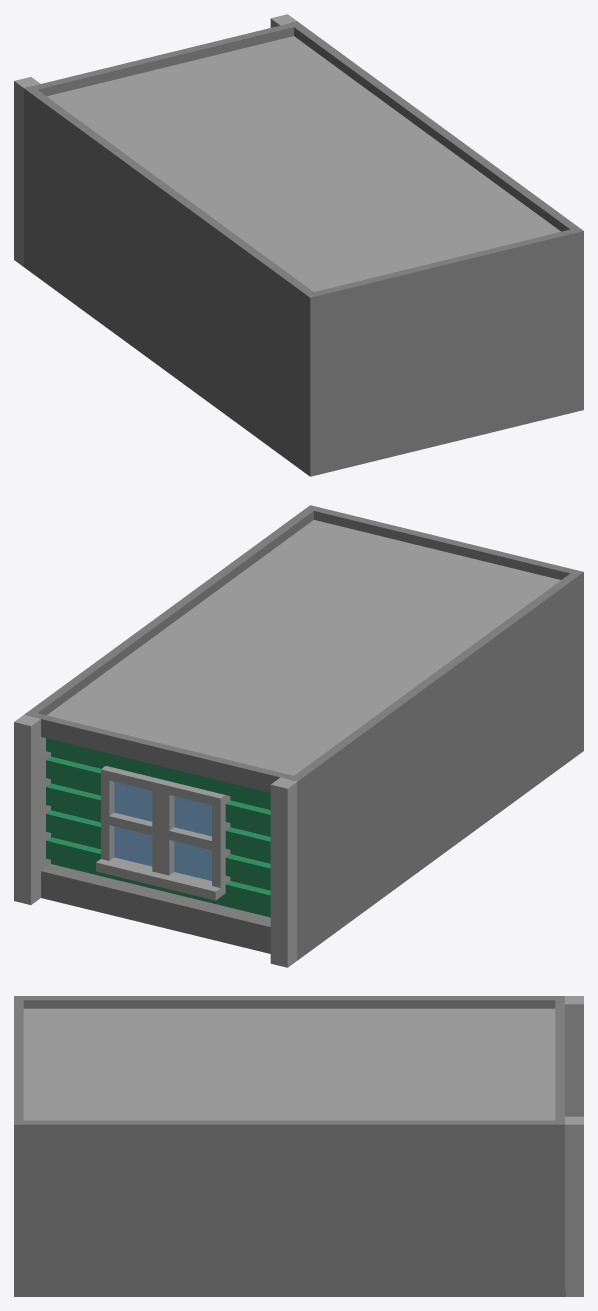
The model's file is obj_story03c.fbx.
3 views of the same model, one above another, from view 1: azimuth 30°, elevation 25°; view 2: azimuth 150°, elevation 25°; view 3: azimuth 270°, elevation 25° (orthographic). The views are drawn at different scales.
Visible parts, largest first — view 1: obj_story03c; view 2: obj_story03c; view 3: obj_story03c.
Part boxes in pixels (<box>): obj_story03c: <box>14,14,583,476</box>; obj_story03c: <box>14,505,583,967</box>; obj_story03c: <box>14,996,583,1296</box>.
Bounding box in the file's own units: 3.2 × 6 × 2.
1 material, 1 textured.
